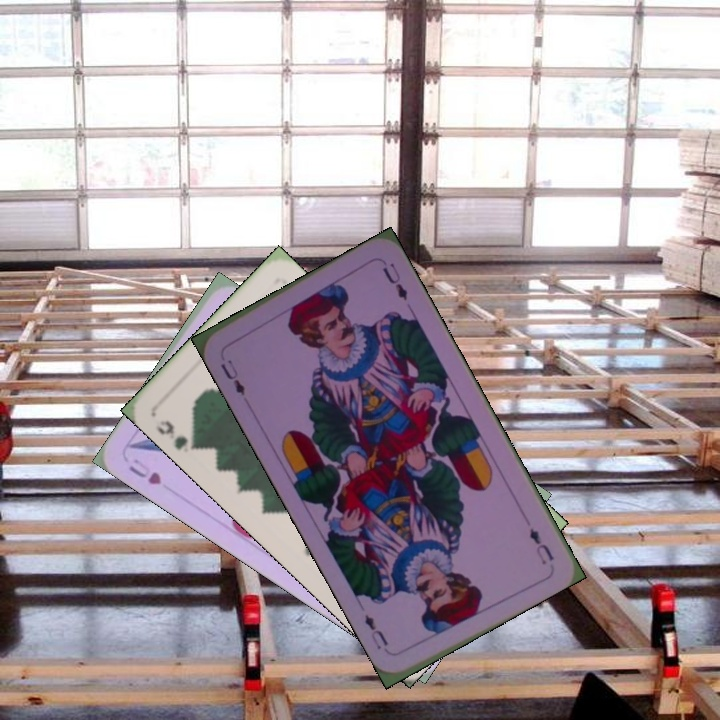EU: (525, 524, 557, 568), (217, 355, 248, 398)
G9: (151, 416, 202, 453)
HU: (125, 454, 164, 488)
